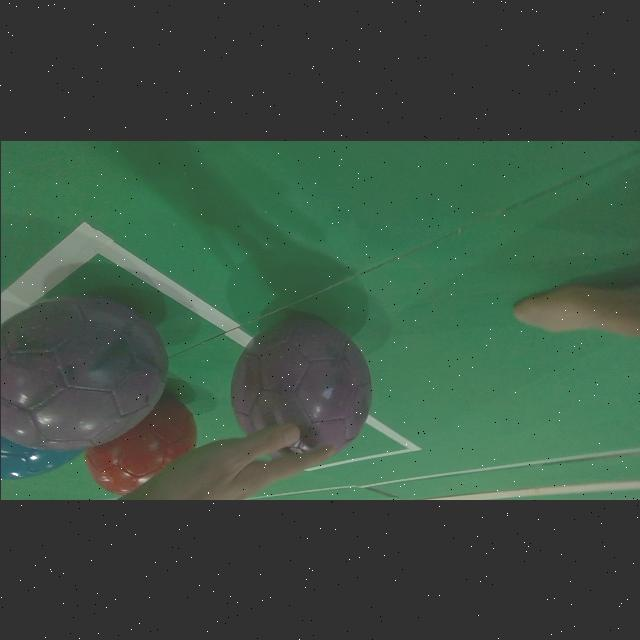B: (0, 437, 83, 478)
P: (0, 296, 166, 449), (230, 319, 371, 453)
R: (84, 395, 196, 495)
